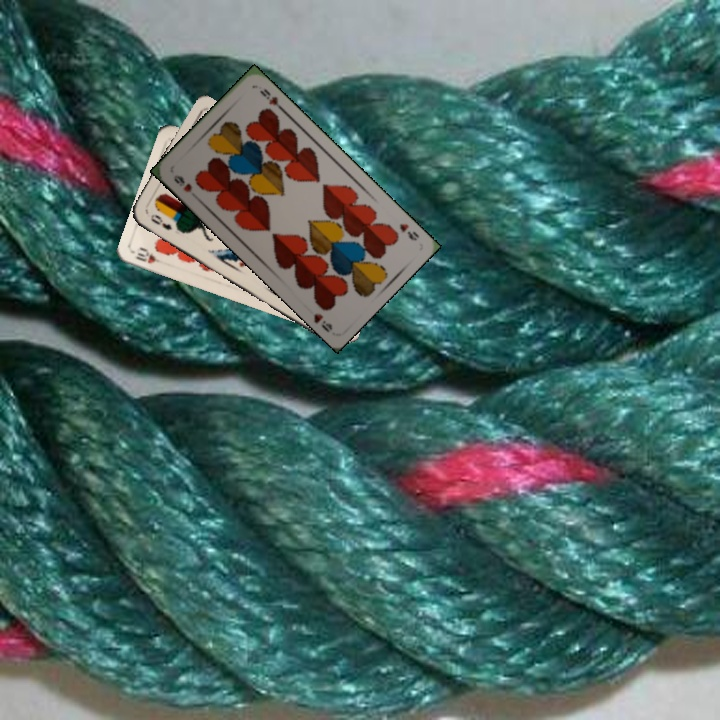EO: (146, 210, 175, 233)
H10: (131, 244, 169, 268)
H9: (395, 219, 422, 243), (170, 171, 195, 195)
